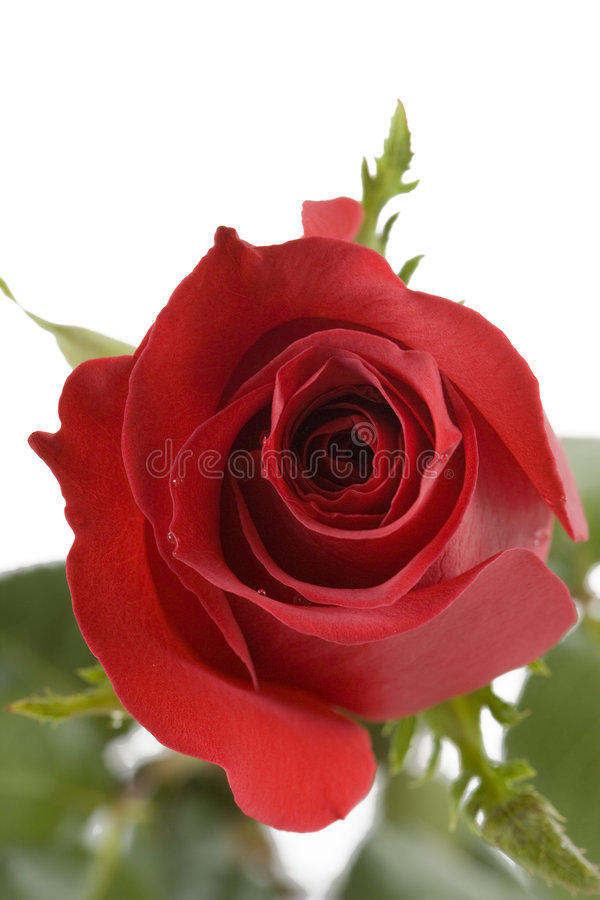RedRose: (66, 223, 580, 821)
